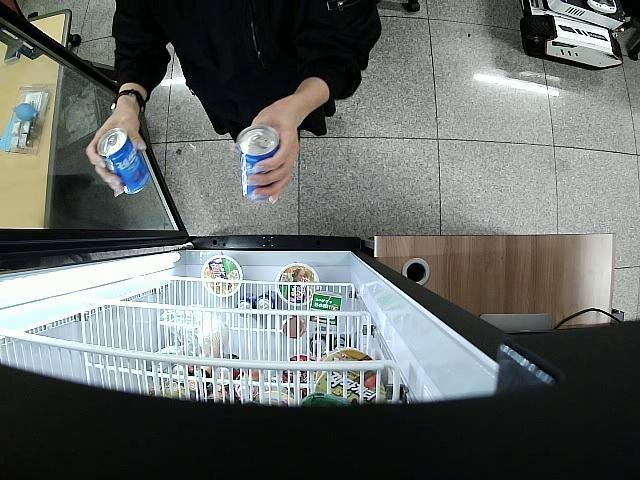15_letsbe: (98, 128, 152, 196), (236, 125, 282, 204)
